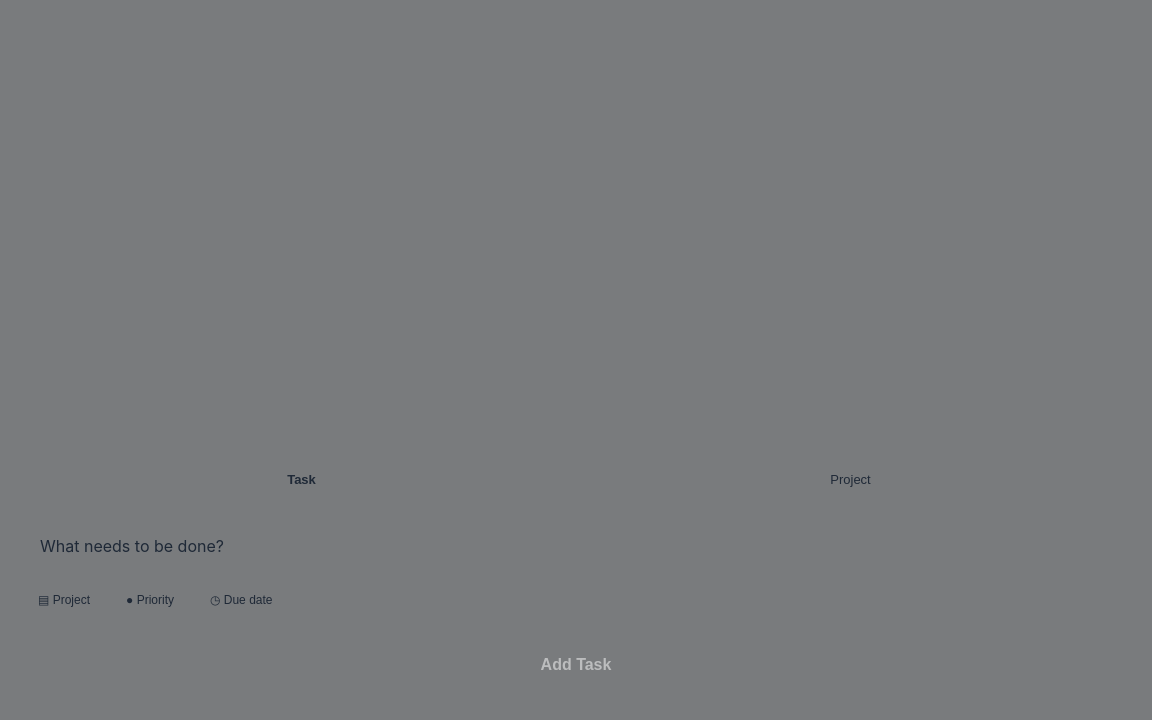
Test: QuickCapture › shows project input placeholder in project mode
Step 1. Click the button "Project" → (850, 480), box x1=576 y1=464 x2=1125 y2=495
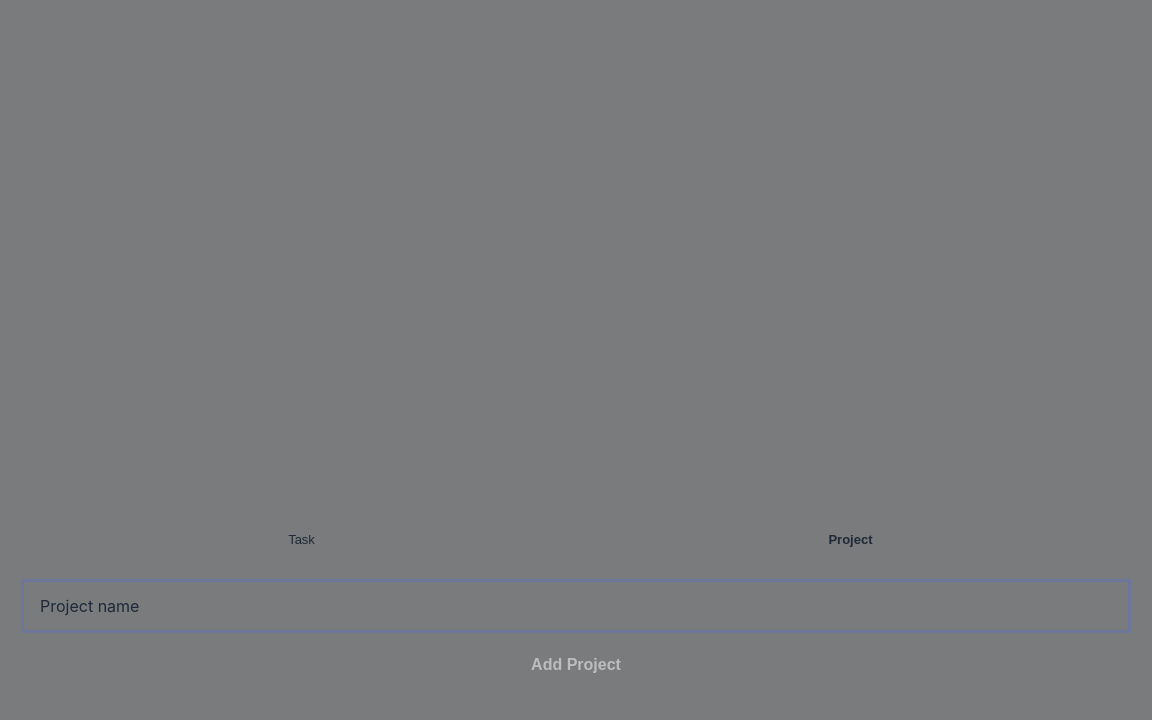
expect the field with placeholder "Project name" is shown: met, box x1=24 y1=582 x2=1128 y2=630
